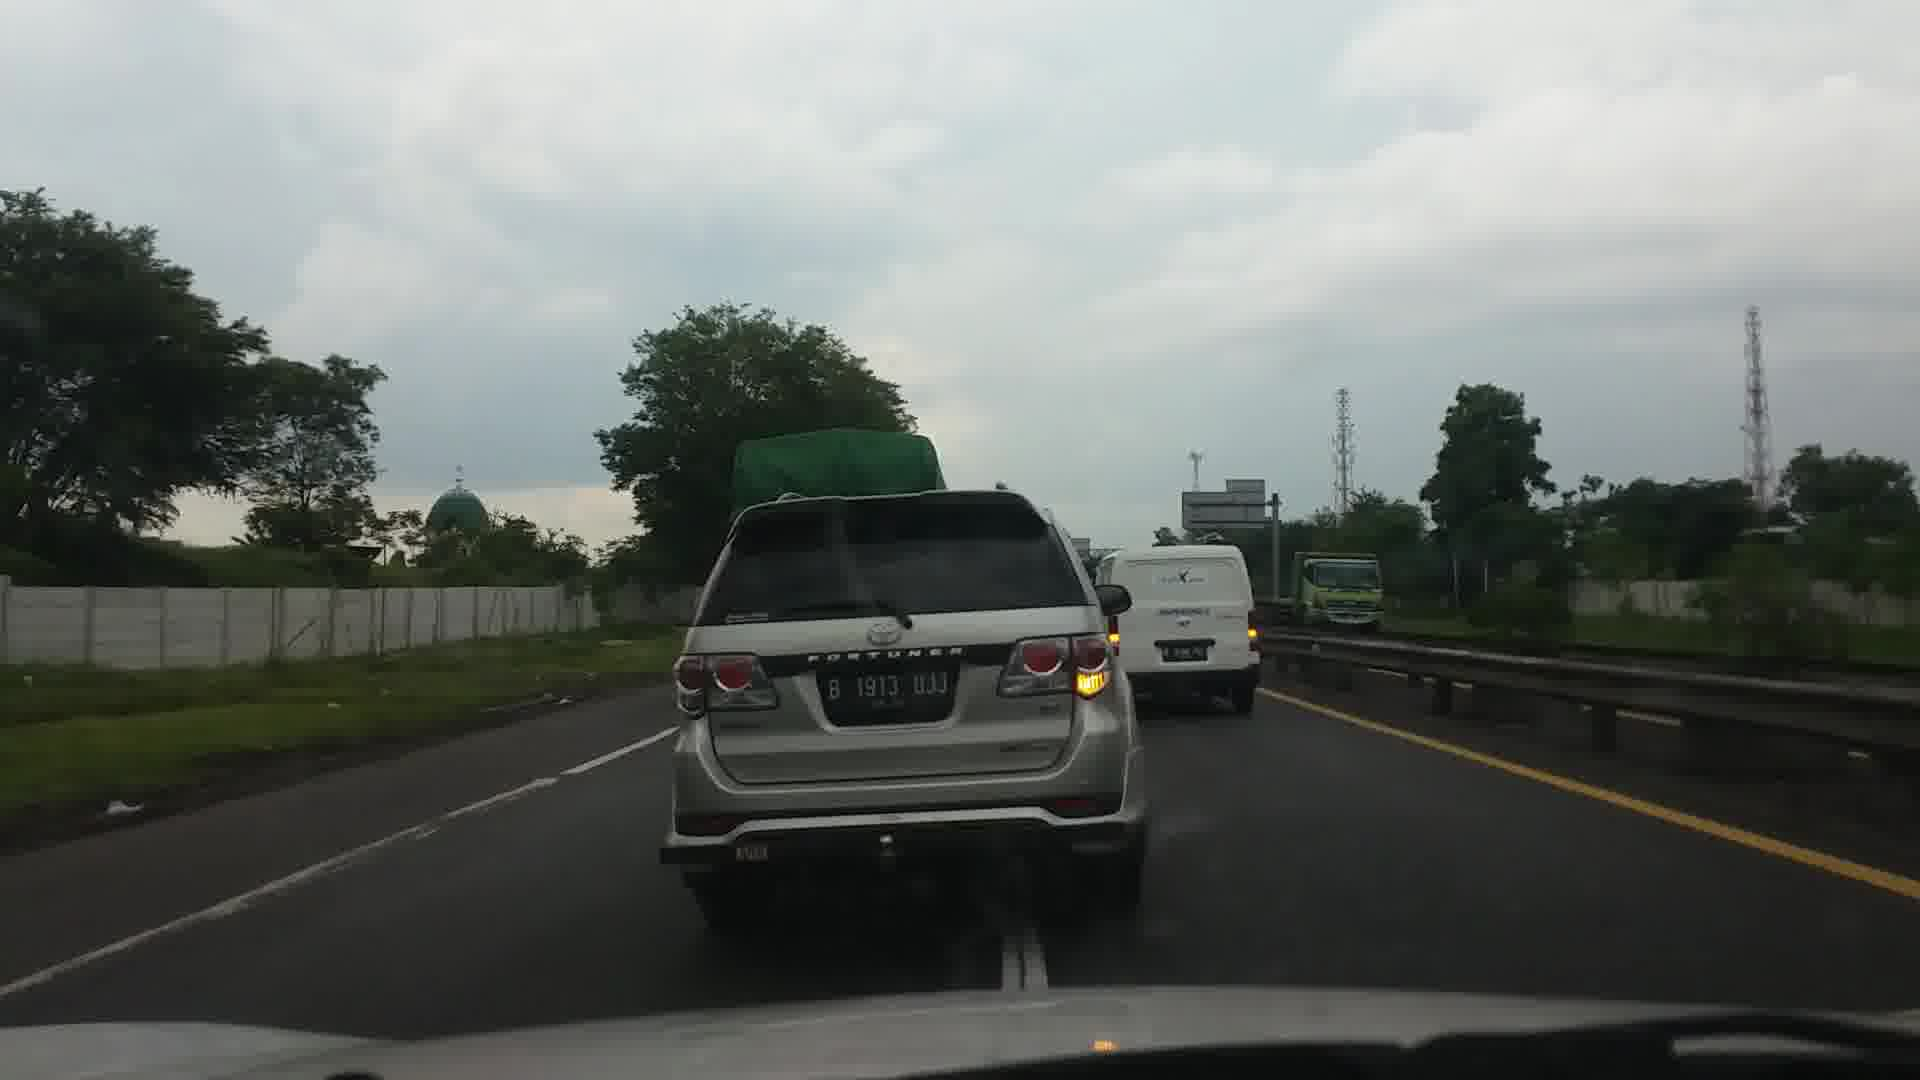plate_positive: (824, 667, 952, 711)
